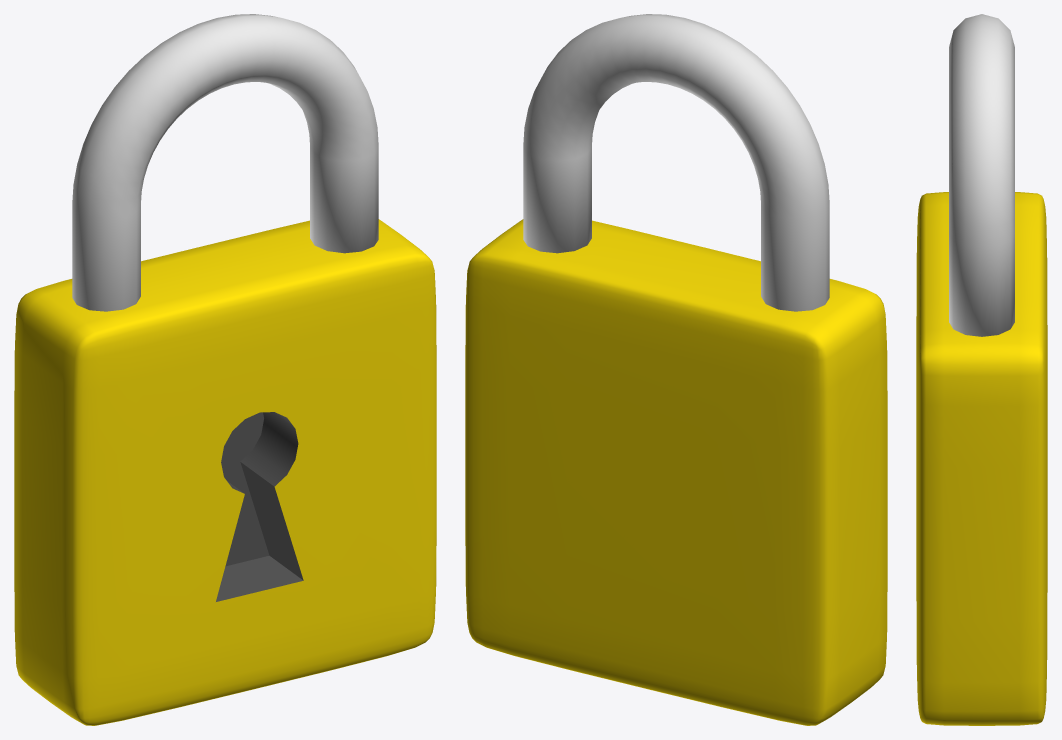
Rendered from lock.glb.
The picture shows the model from 3 angles, left to right: view 1: azimuth 30°, elevation 25°; view 2: azimuth 150°, elevation 25°; view 3: azimuth 270°, elevation 25°; orthographic projection. The views are drawn at different scales.
Parts seen in each view (by area): view 1: LockBody.002, LockMech; view 2: LockBody.002, LockMech; view 3: LockBody.002, LockMech.
Boxes of the visible parts, box(x1,y1,x2,y2) form: LockBody.002: box(14, 219, 436, 725); LockMech: box(72, 14, 378, 311); LockBody.002: box(465, 219, 887, 725); LockMech: box(523, 14, 829, 311); LockBody.002: box(916, 192, 1047, 725); LockMech: box(949, 14, 1014, 336).
Bounding box in the file's own units: 1.72 × 2.9 × 0.5534.
